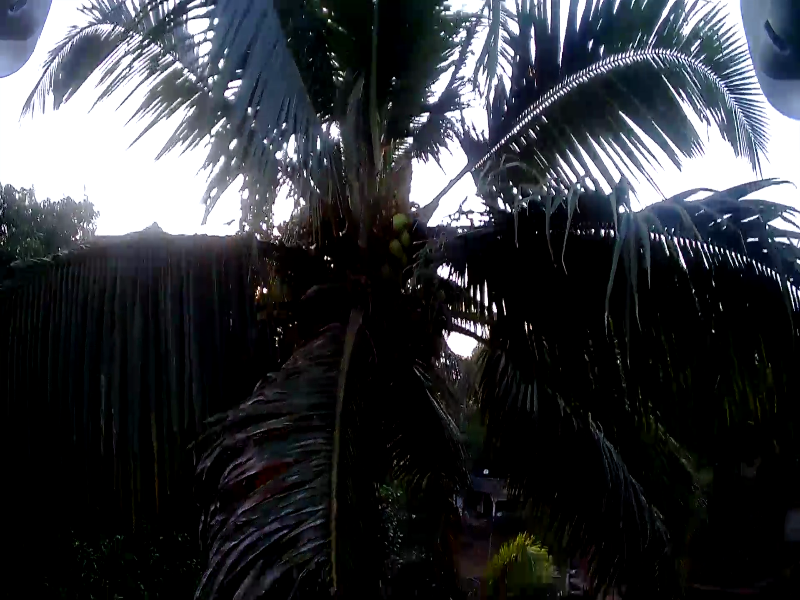coconut: (391, 207, 402, 232), (384, 234, 397, 252)
